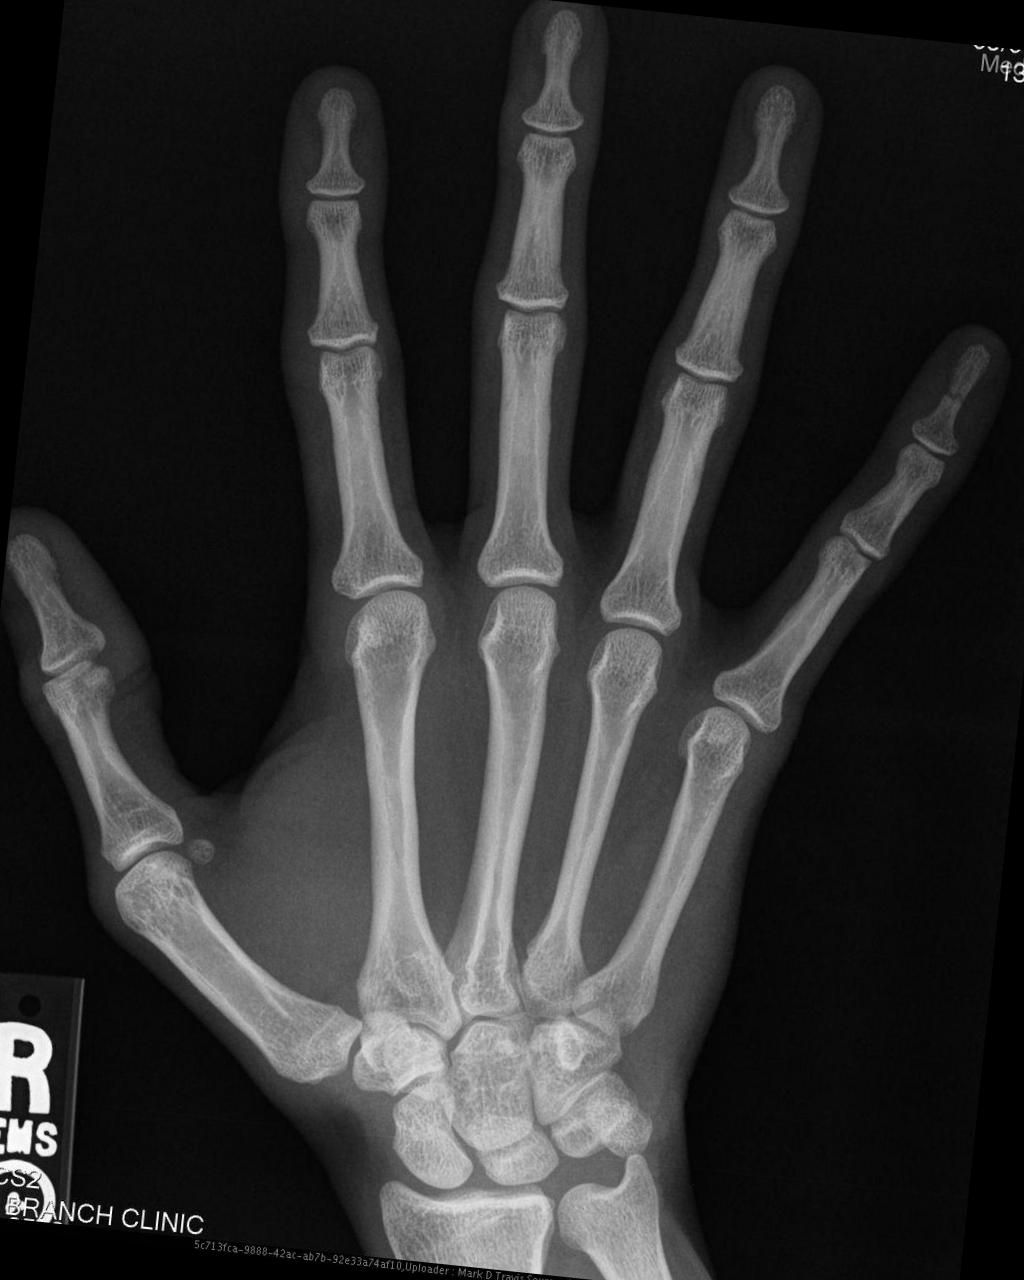fracture: (940, 387, 968, 404)
